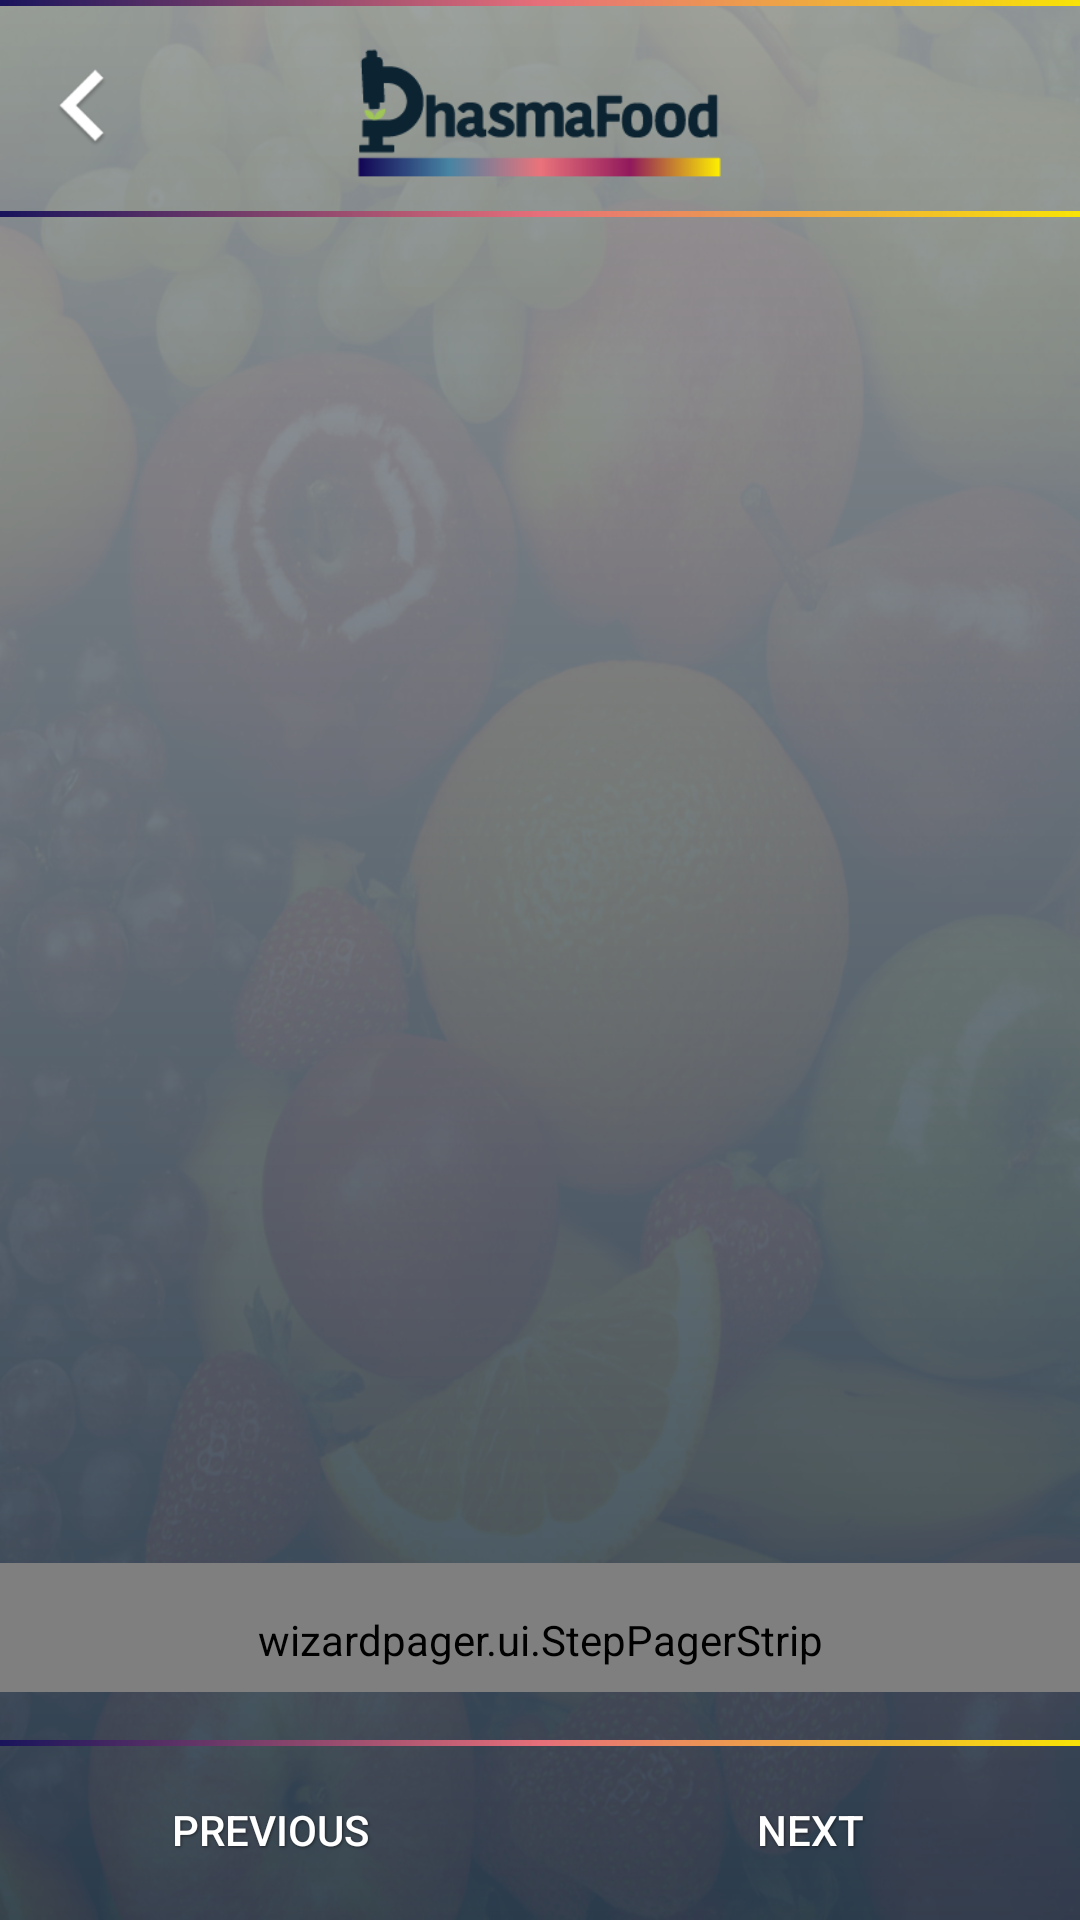

Icons on this 1080x1920 Android screen, each with its box as [x1=x1, y1=y1, x2=x2, y2=y2]:
back: [x1=60, y1=70, x2=103, y2=143]
